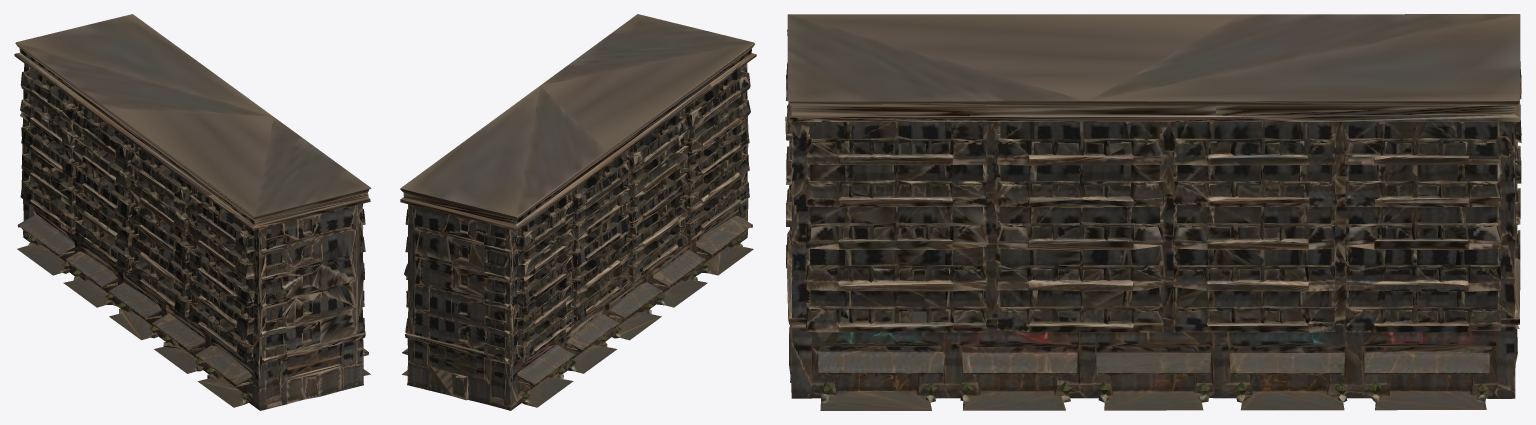
The picture shows the model from 3 angles, left to right: view 1: azimuth 30°, elevation 25°; view 2: azimuth 150°, elevation 25°; view 3: azimuth 270°, elevation 25°; orthographic projection. The views are drawn at different scales.
Visible parts, largest first — view 1: l03; view 2: l03; view 3: l03.
Part boxes in pixels (x1,y1,x2,y2): l03: (14,14,371,410); l03: (400,14,756,410); l03: (785,14,1521,410).
Bounding box in the file's own units: 29.32 × 40 × 88.44.
1 material, 1 textured.
